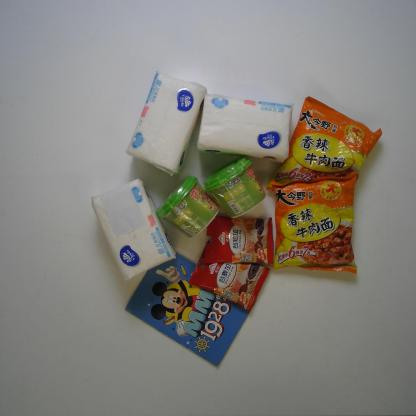Instant Drink: (189, 252, 271, 310), (154, 168, 220, 239), (203, 154, 266, 219), (201, 217, 274, 266)
Instant Noodles: (274, 93, 385, 196), (268, 168, 362, 277)
Stationery: (122, 246, 250, 369)
Tissue: (90, 176, 180, 287), (126, 67, 208, 176), (194, 87, 299, 163)
